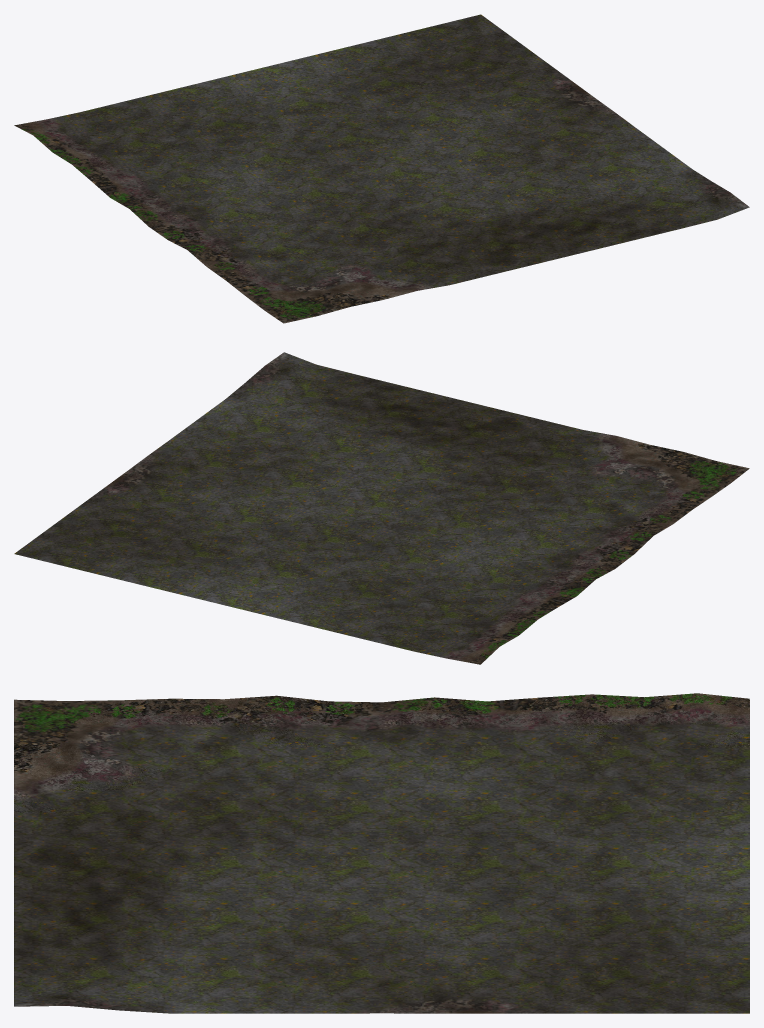
File: terrain3.glb
3 renders of one model, top to bottom at view 1: azimuth 30°, elevation 25°; view 2: azimuth 150°, elevation 25°; view 3: azimuth 270°, elevation 25°, orthographic. The views are drawn at different scales.
Parts seen in each view (by area): view 1: Terrain.003; view 2: Terrain.003; view 3: Terrain.003.
Boxes of the visible parts, x1,y1,x2,y2 form: Terrain.003: (14, 14, 749, 323); Terrain.003: (14, 352, 749, 664); Terrain.003: (14, 693, 749, 1013).
Size of the model in its own units: 44.06 by 0.6323 by 44.07.
1 material, 1 textured.
